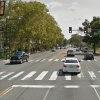Crosswalk: (0, 64, 85, 96)
